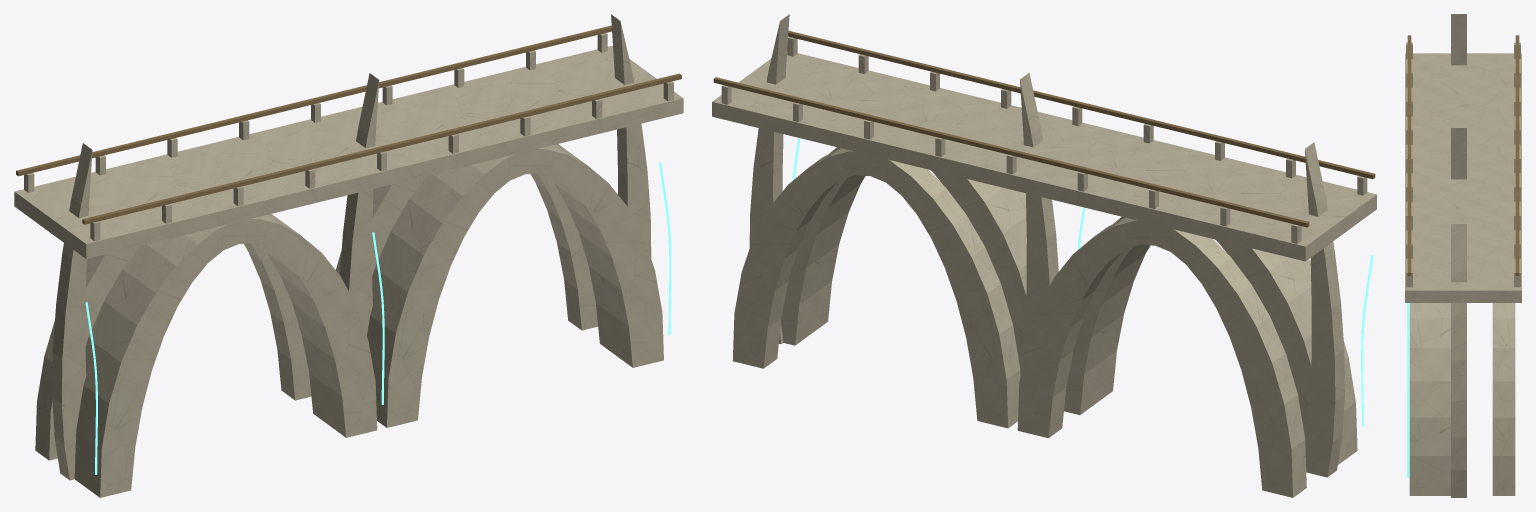
Rendered from arcade-section.glb.
The picture shows the model from 3 angles, left to right: view 1: azimuth 30°, elevation 25°; view 2: azimuth 150°, elevation 25°; view 3: azimuth 270°, elevation 25°; orthographic projection. The views are drawn at different scales.
Visible parts, largest first — view 1: ceramic, bronze, ACTIVE_CYAN; view 2: ceramic, bronze, ACTIVE_CYAN; view 3: ceramic, bronze, ACTIVE_CYAN.
Part boxes in pixels (x1,y1,x2,y2): ceramic: (14, 14, 683, 497); bronze: (16, 25, 681, 224); ACTIVE_CYAN: (85, 162, 671, 474); ceramic: (712, 14, 1376, 497); bronze: (713, 31, 1375, 227); ACTIVE_CYAN: (792, 138, 1373, 426); ceramic: (1405, 14, 1521, 497); bronze: (1407, 35, 1519, 275); ACTIVE_CYAN: (1407, 303, 1409, 477).
Size of the model in its own units: 25 by 13 by 5.2.
3 materials, 2 textured.
